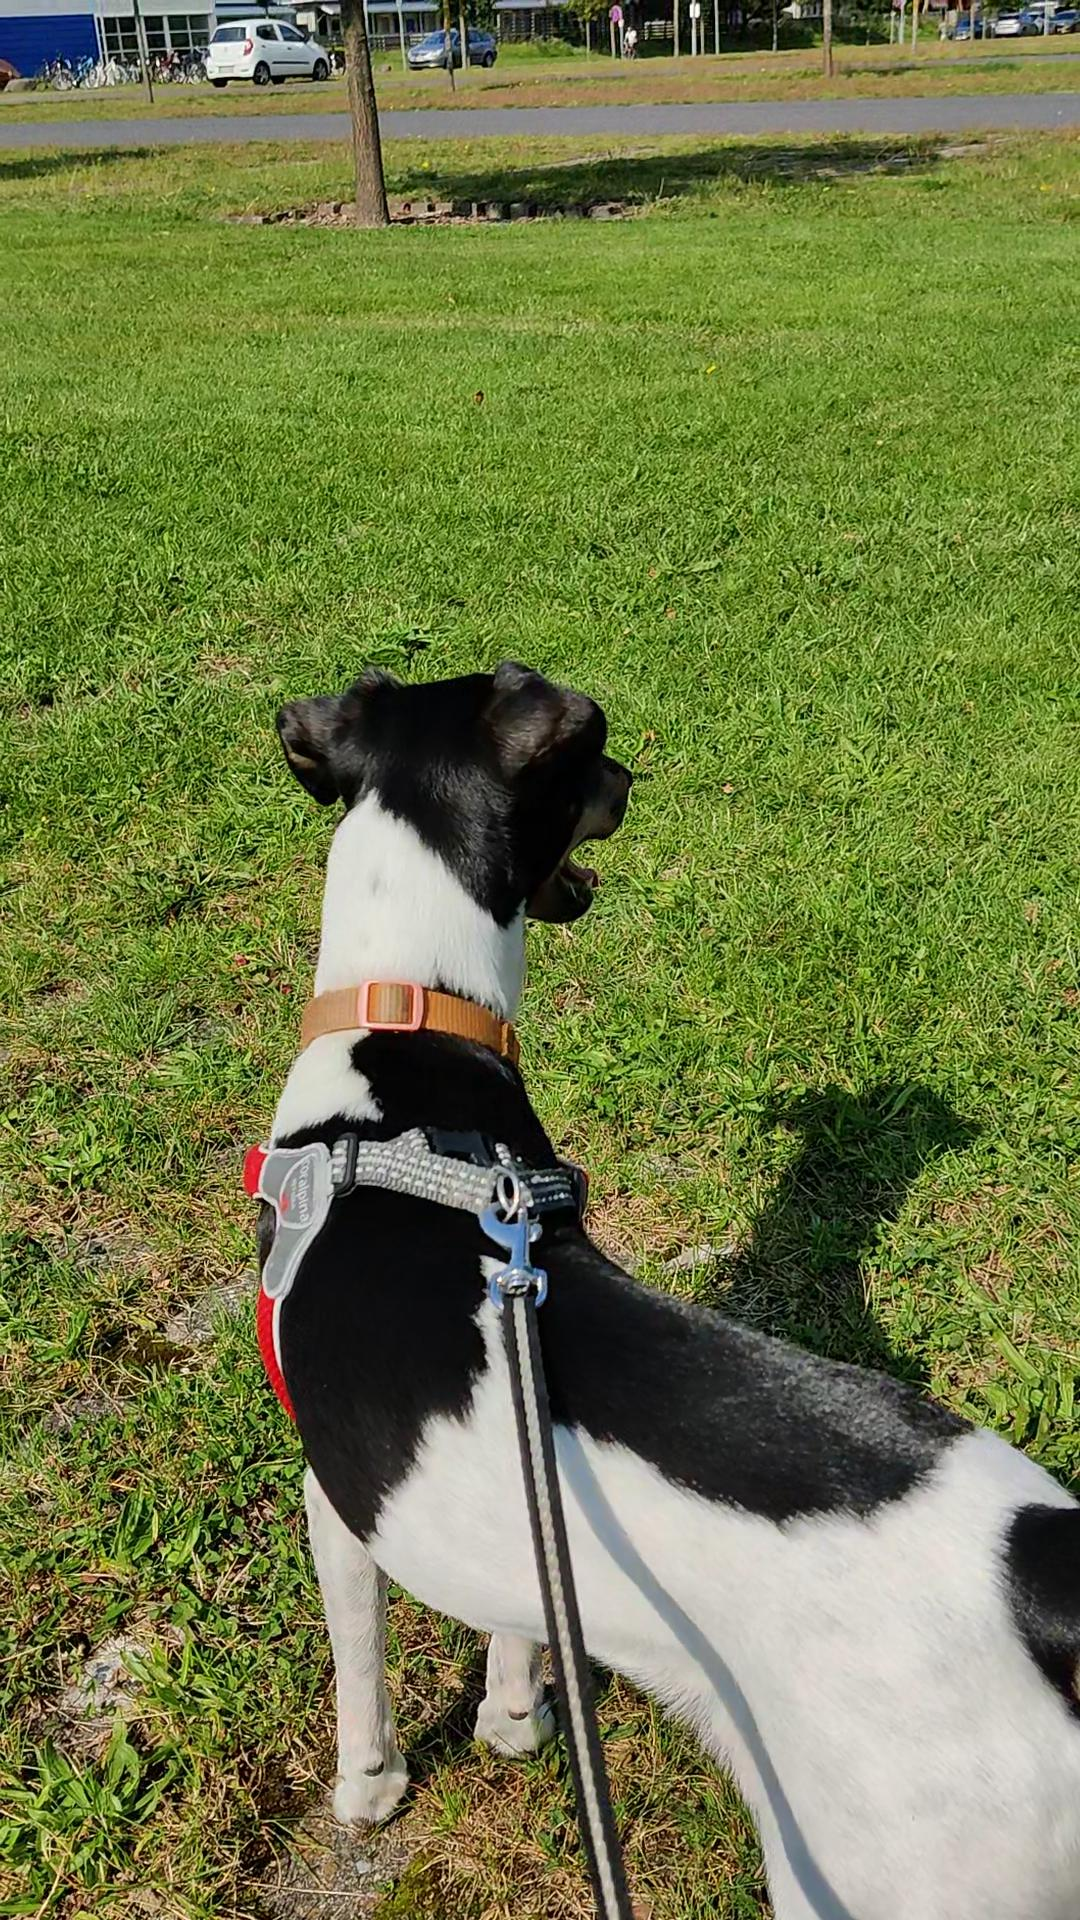Dog: (222, 644, 1079, 1919)
